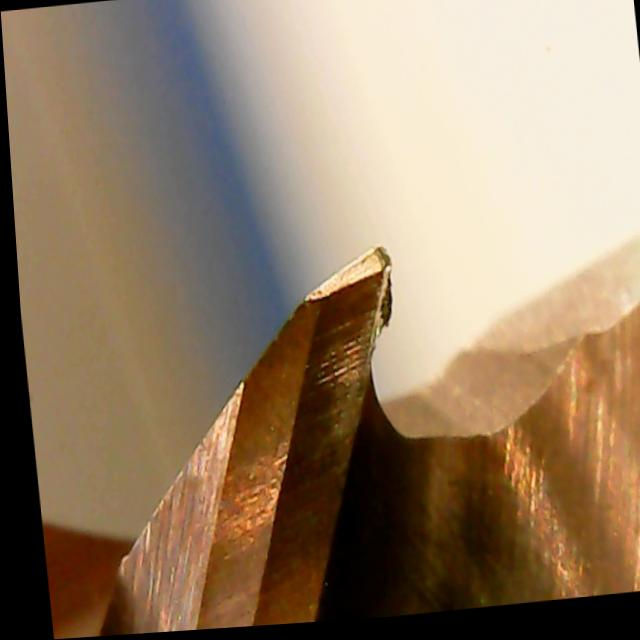Tool-wear-class-1: (243, 234, 413, 497)
